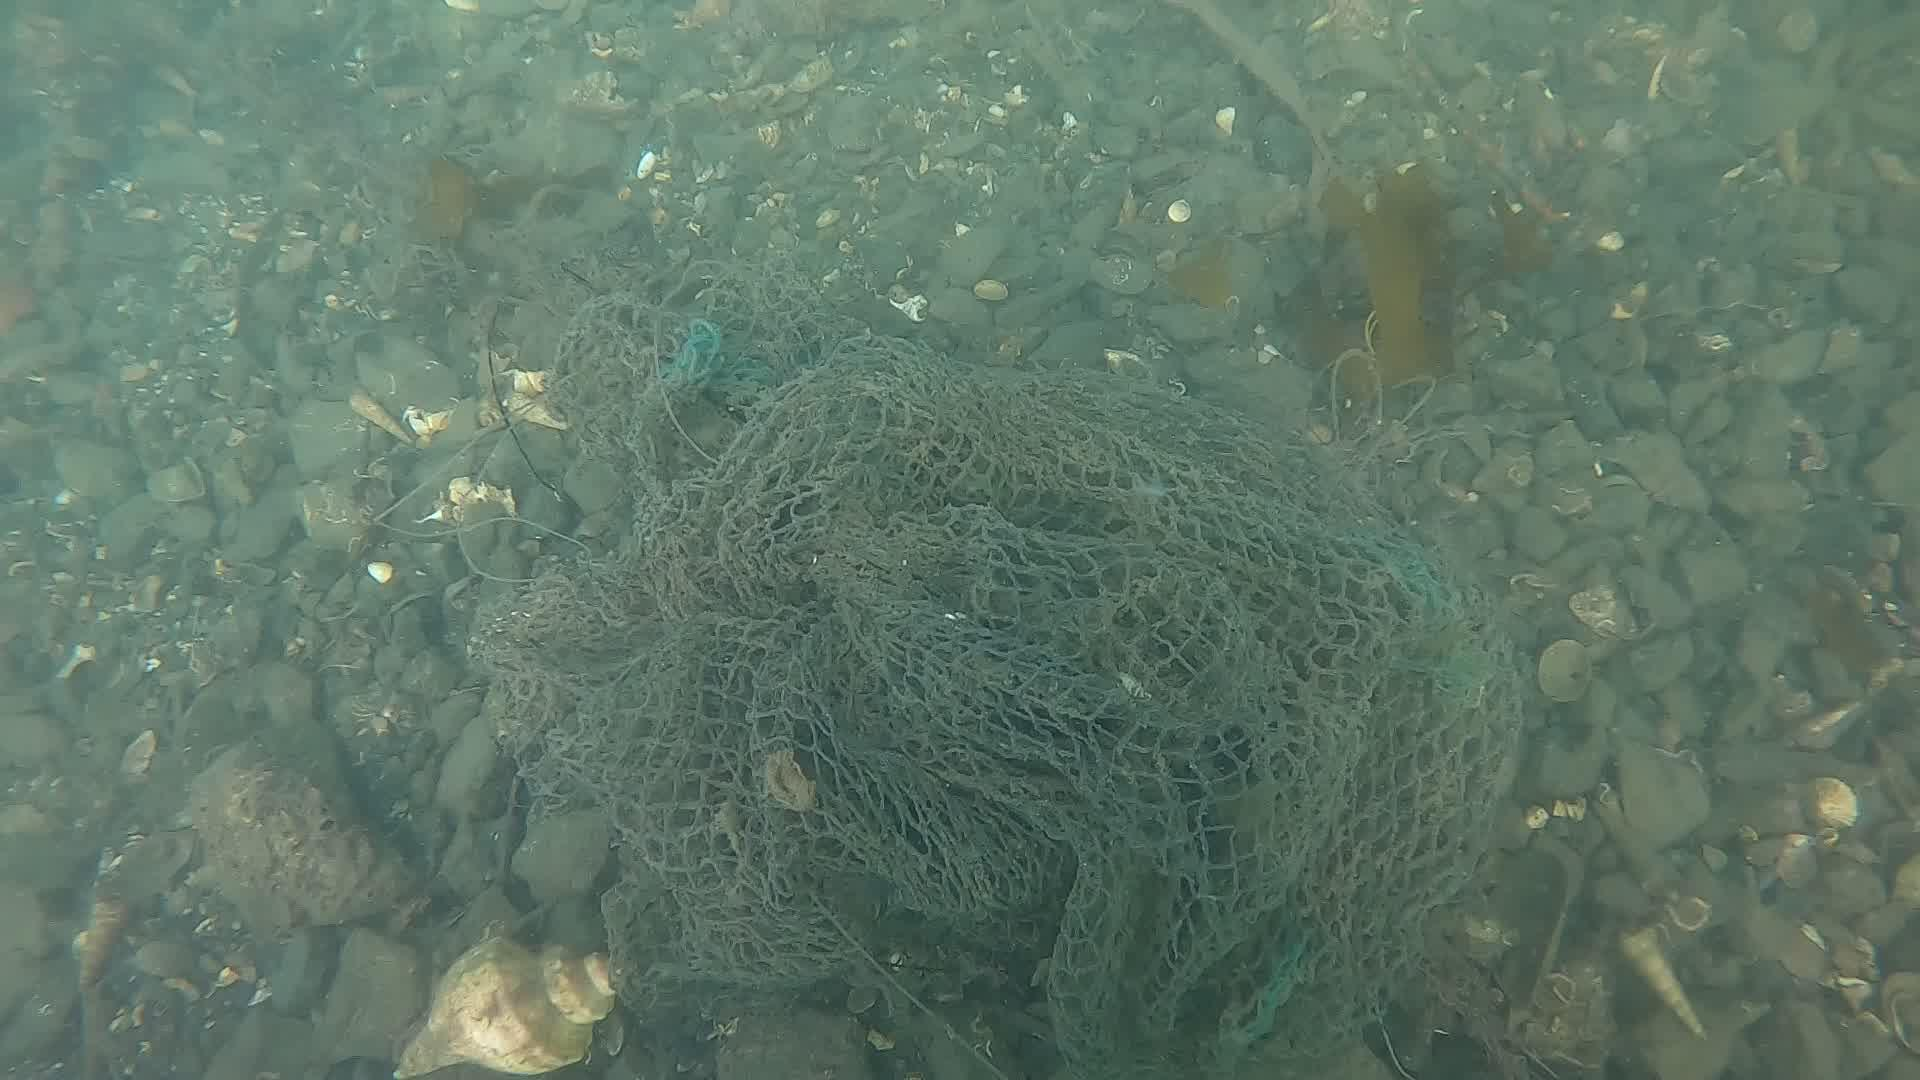fish net: (553, 295, 1528, 1039)
